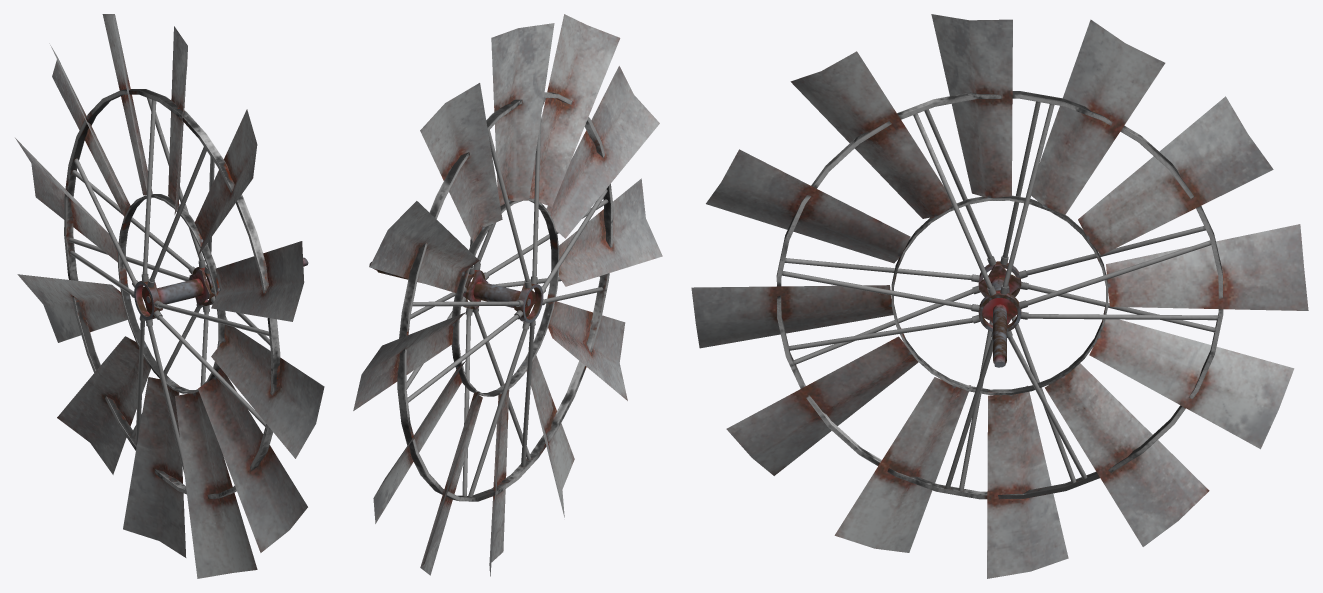
Rendered from headWindmill.obj.
The picture shows the model from 3 angles, left to right: view 1: azimuth 30°, elevation 25°; view 2: azimuth 150°, elevation 25°; view 3: azimuth 270°, elevation 25°; orthographic projection. The views are drawn at different scales.
Visible parts, largest first — view 1: Cube.001_redmetla_0; view 2: Cube.001_redmetla_0; view 3: Cube.001_redmetla_0.
Boxes of the visible parts, box(x1,y1,x2,y2) form: Cube.001_redmetla_0: box(15, 14, 324, 578); Cube.001_redmetla_0: box(353, 14, 662, 576); Cube.001_redmetla_0: box(691, 14, 1308, 578).
Size of the model in its own units: 0.9681 by 3 by 3.
4 materials, 4 textured.
